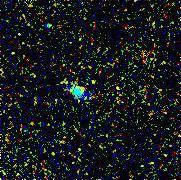star: (79, 67, 109, 97)
